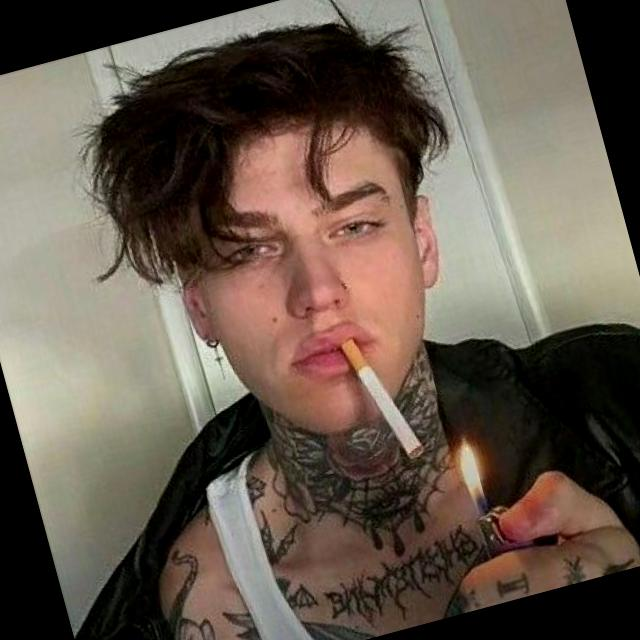cigarette: (322, 313, 461, 502)
